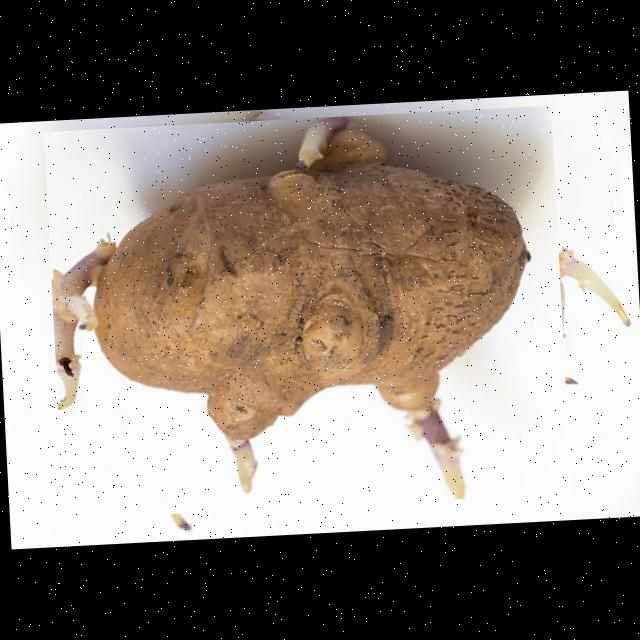Sprouted potato: (44, 106, 572, 520)
